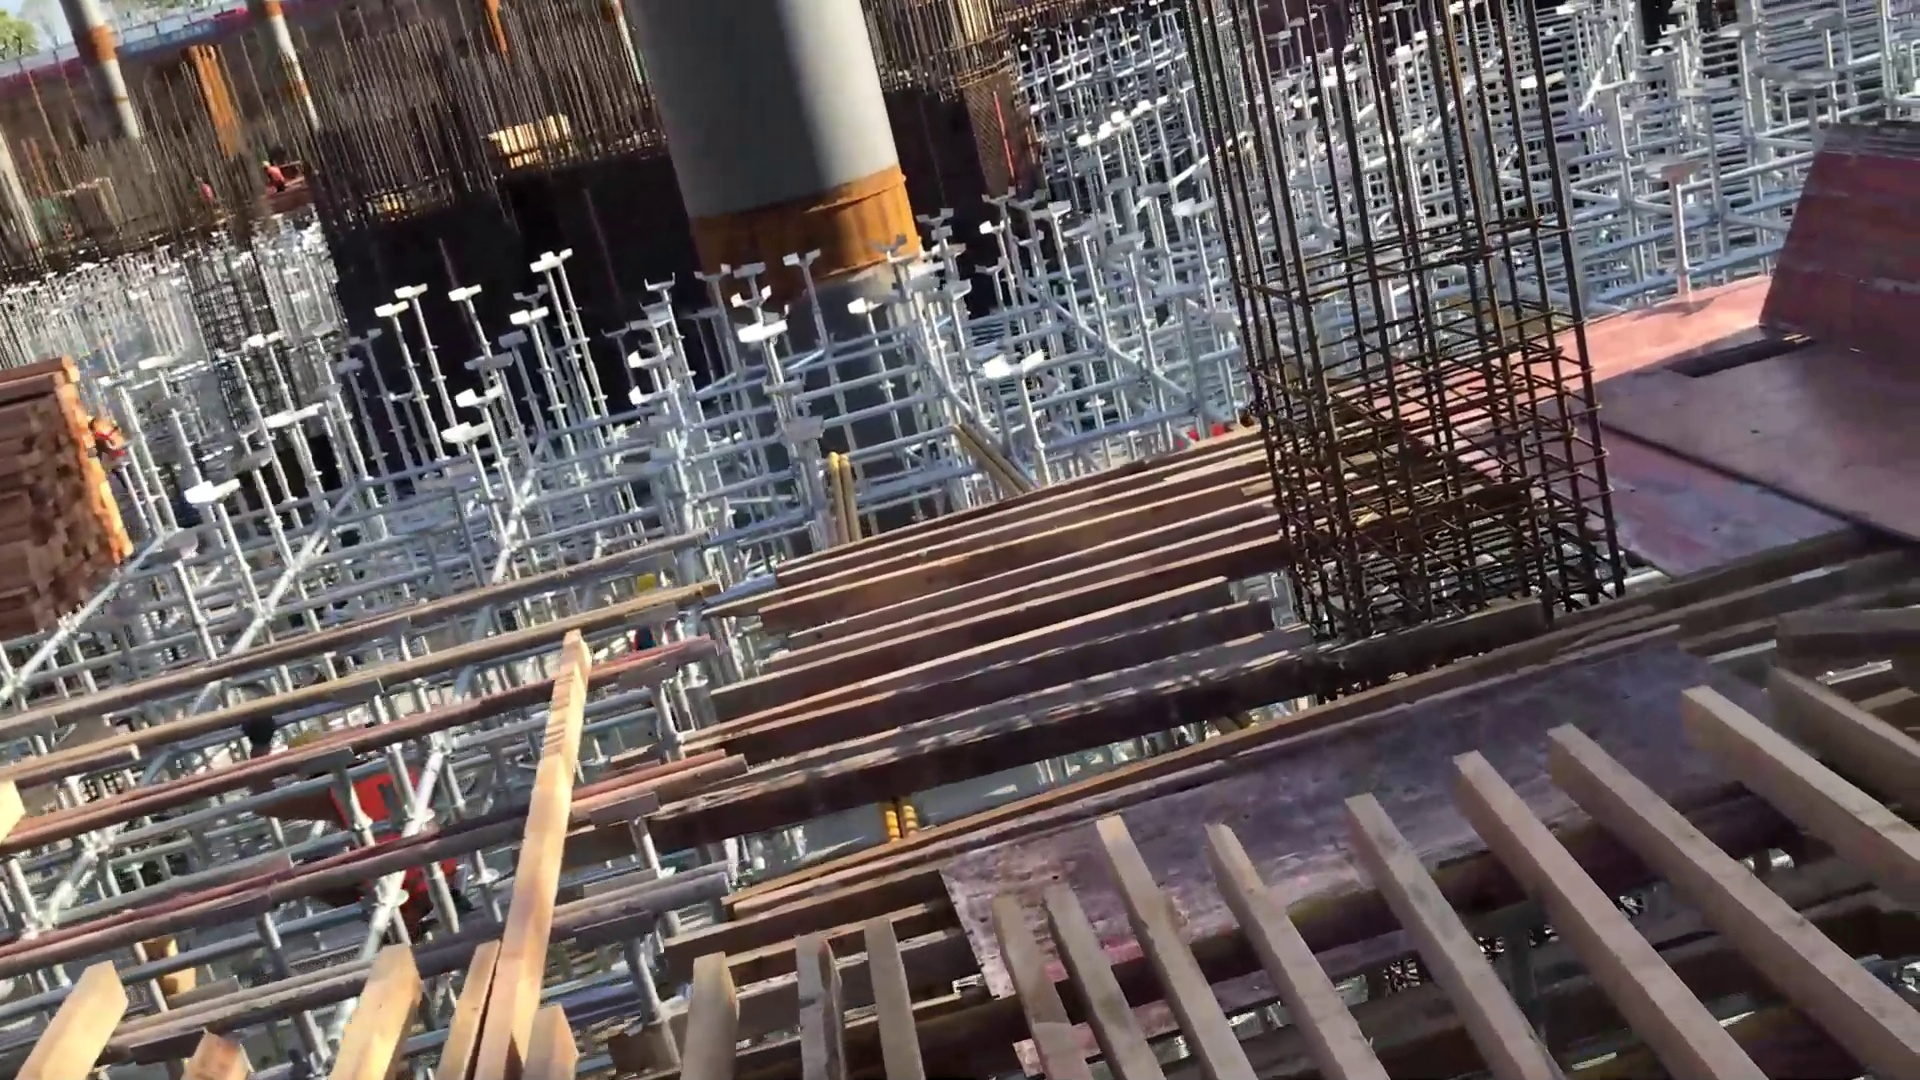wood: (1, 319, 132, 629)
